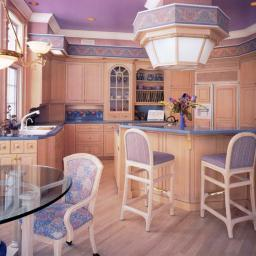Electrodomestico: (20, 109, 58, 136)
